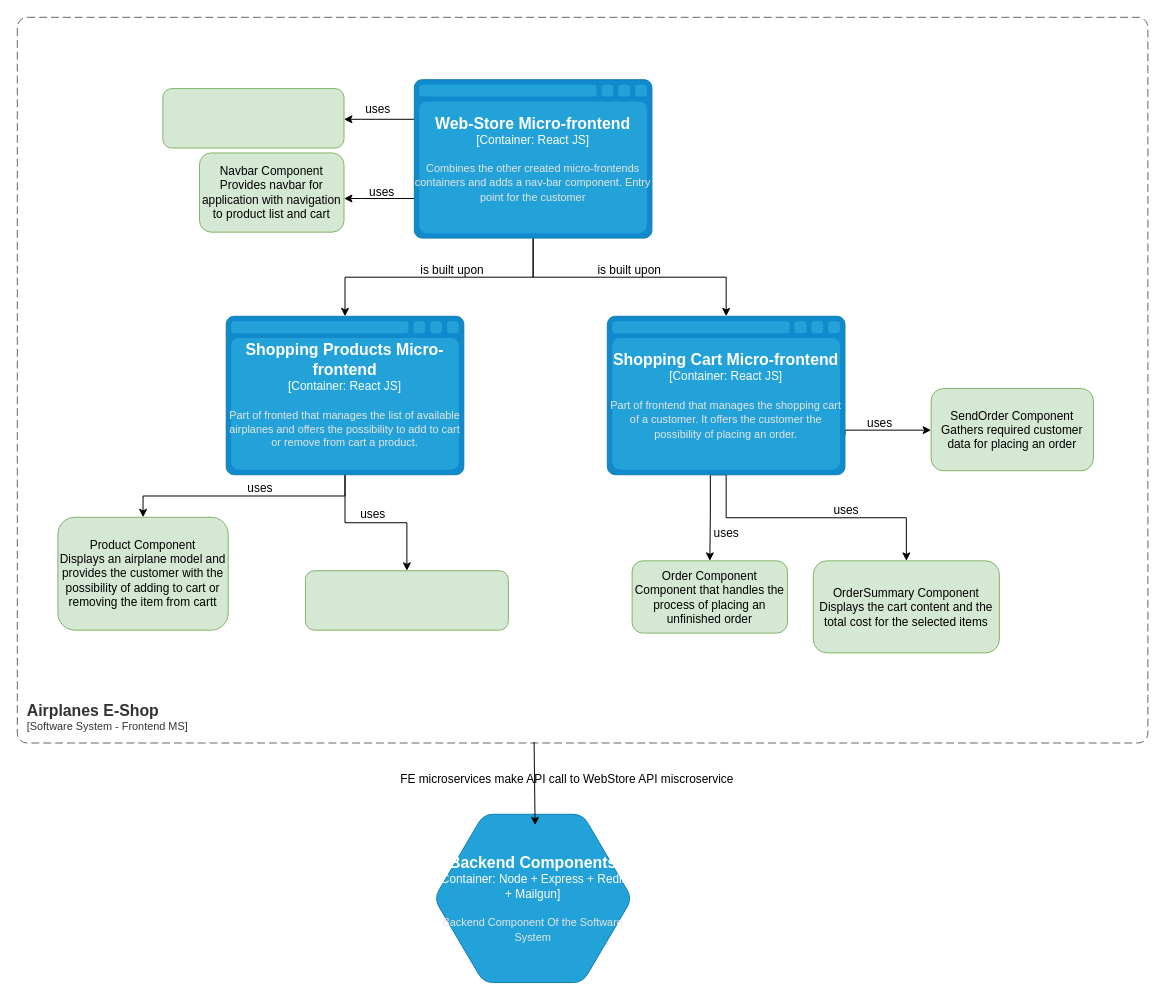
Some shapes in this 1165 by 1000 pixel diagram are drawn without their labels. Here are the shapes that lost their labels. From the top down, the centre of each, then its label:
At (x=253, y=118): "CartMinimized Component Component which enables the user to navigate to the cart".
At (x=406, y=600): "ProductList Component Displays the available list of products.".
